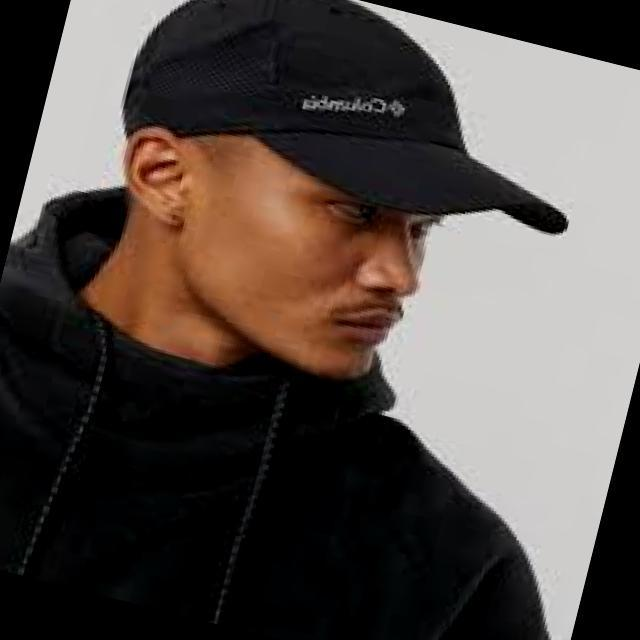cap: (83, 0, 631, 294)
